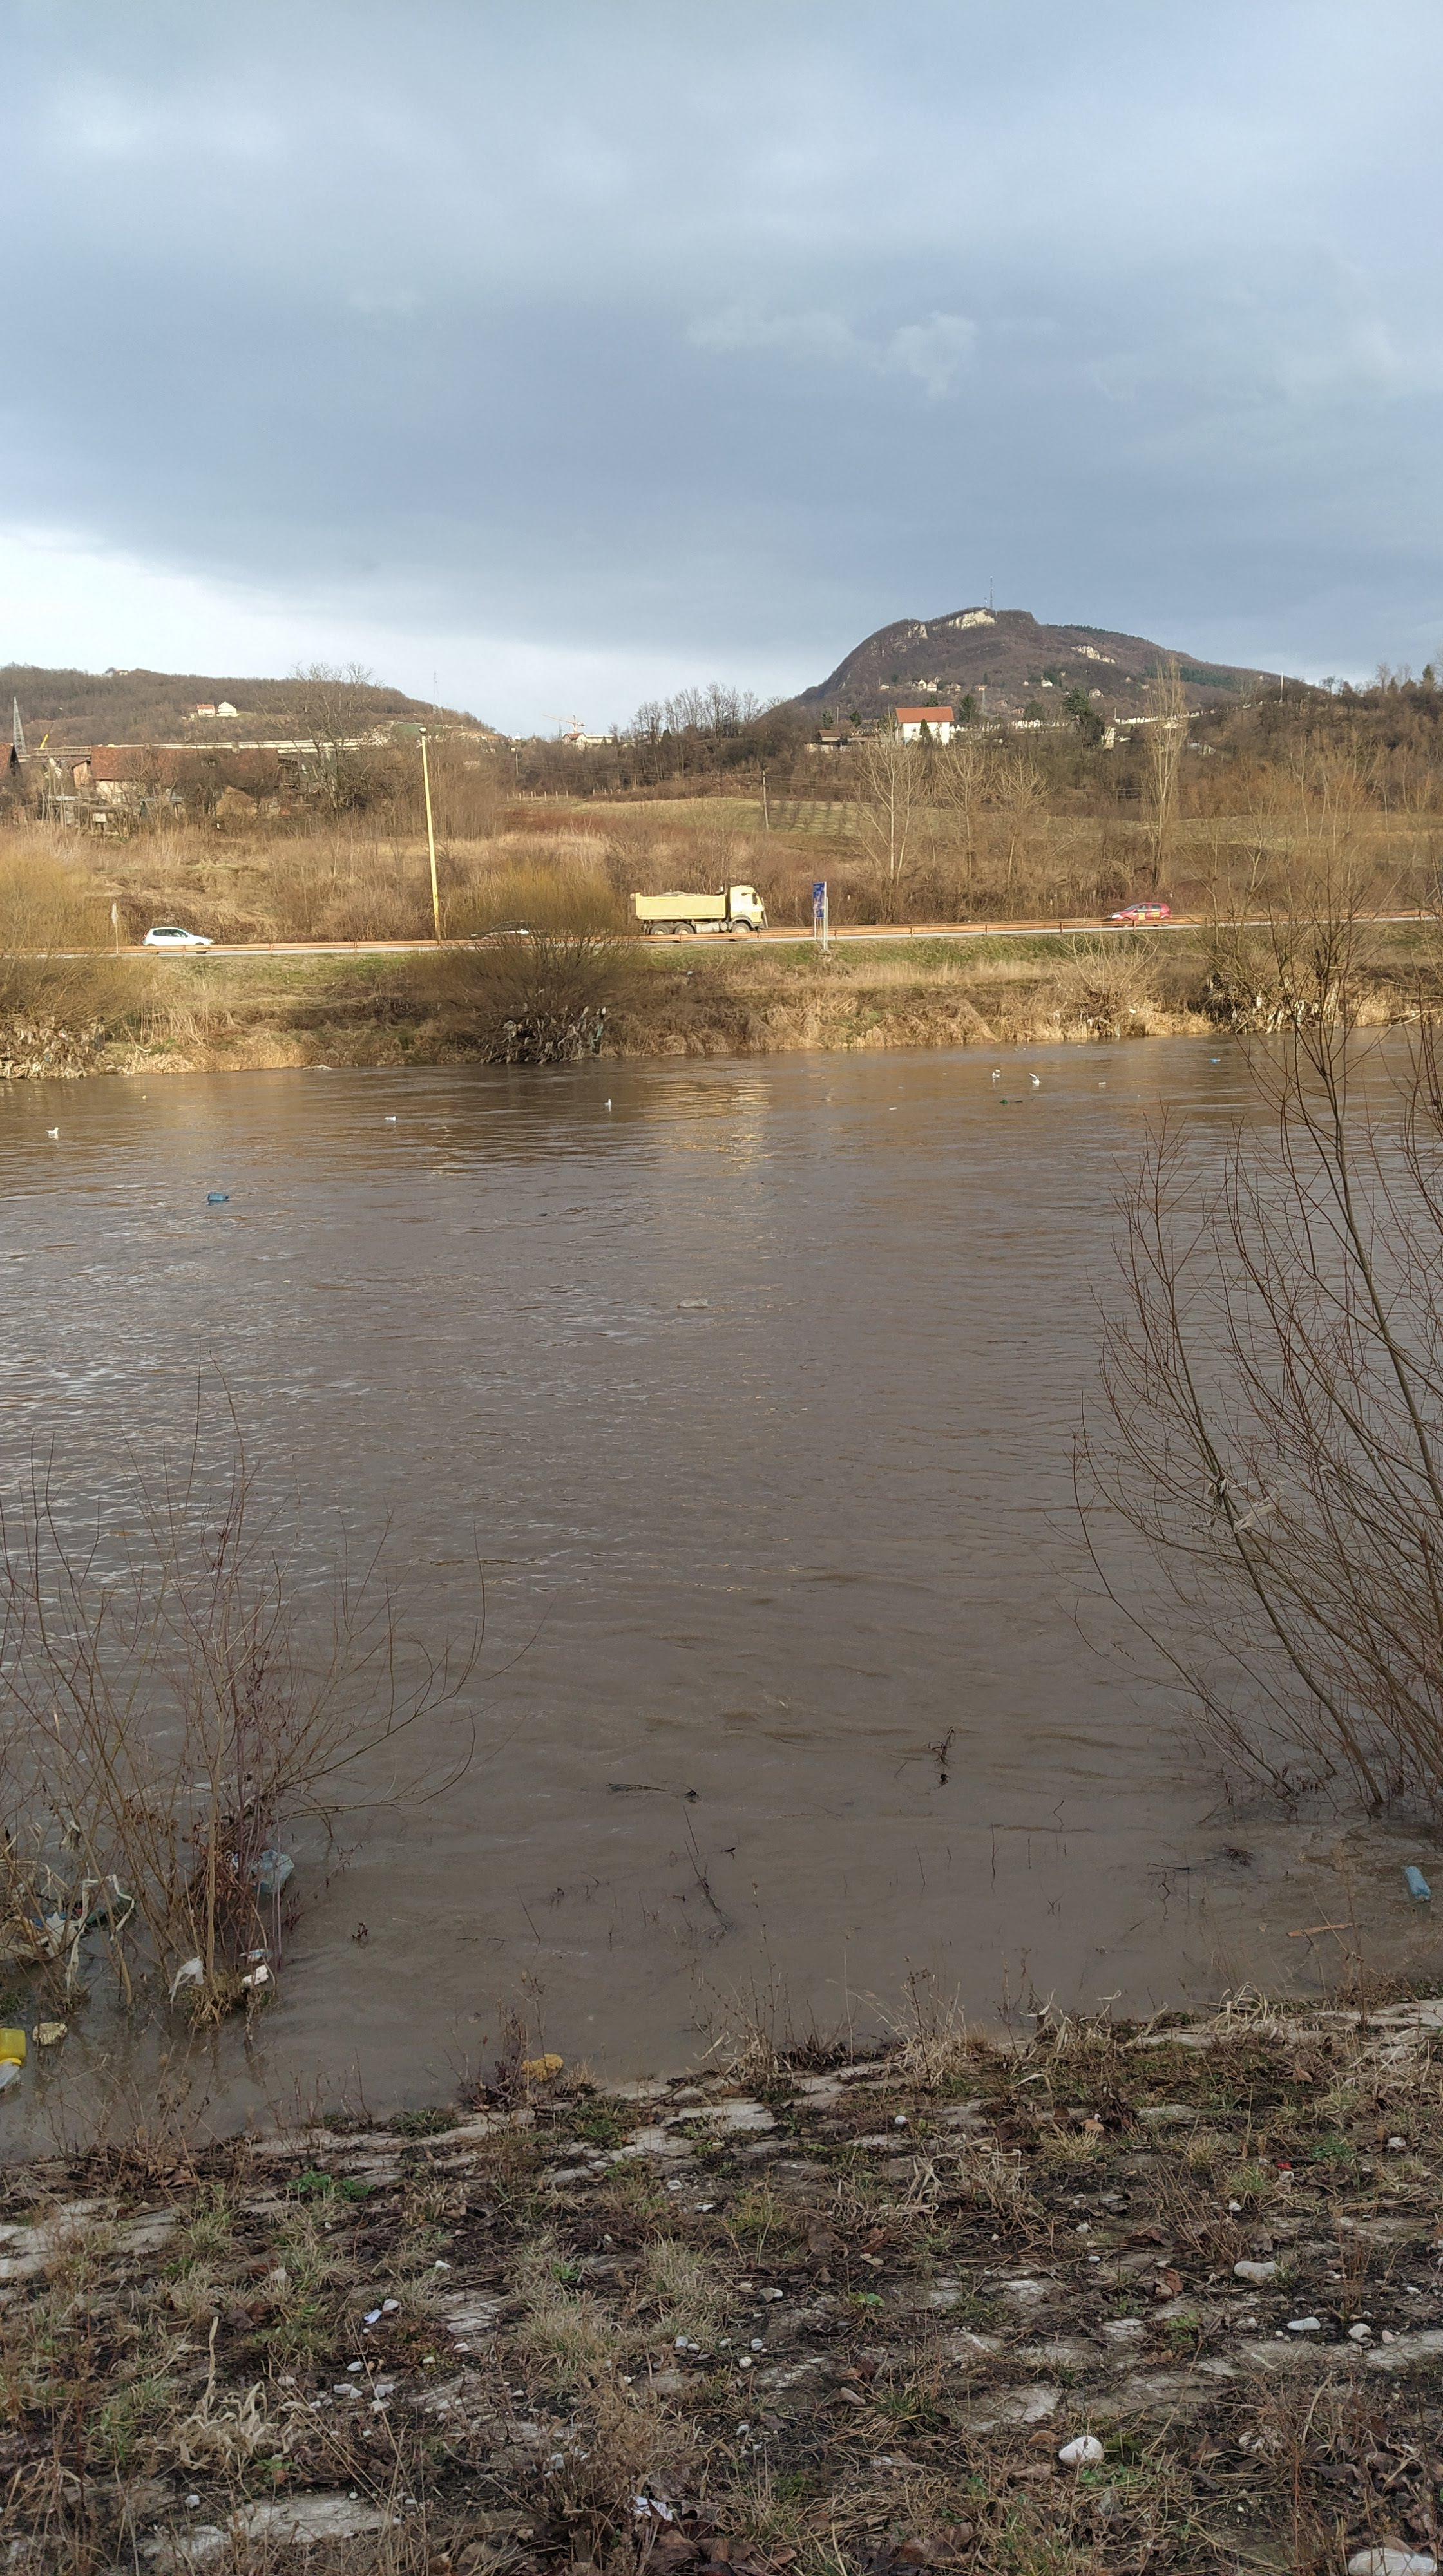Plastic Bottle: (83, 1888, 133, 1923), (0, 2028, 27, 2065), (1404, 1865, 1431, 1902), (11, 1874, 34, 1904), (0, 2059, 19, 2093), (676, 1297, 708, 1307), (209, 1192, 230, 1201), (382, 1116, 395, 1120), (1208, 1058, 1216, 1062), (1000, 1099, 1006, 1104), (1098, 1081, 1105, 1085)
